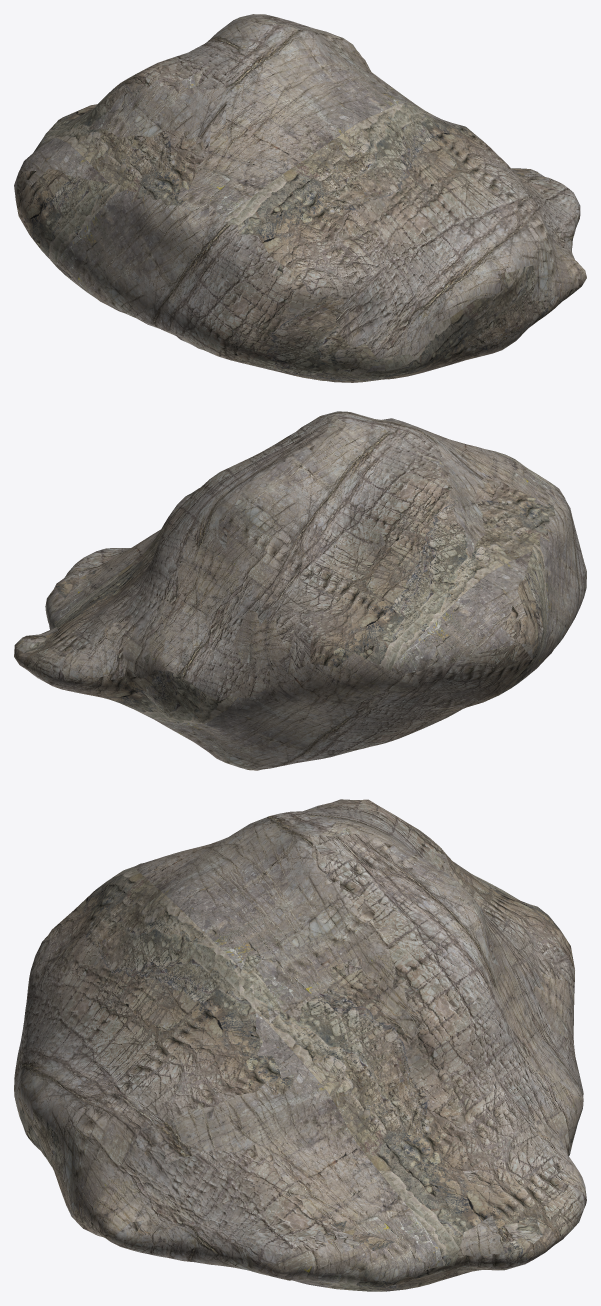
The model's file is stone_b_4.fbx.
3 views of the same model, one above another, from view 1: azimuth 30°, elevation 25°; view 2: azimuth 150°, elevation 25°; view 3: azimuth 270°, elevation 25° (orthographic). The views are drawn at different scales.
Visible parts, largest first — view 1: Sphere; view 2: Sphere; view 3: Sphere.
Part boxes in pixels (x1,y1,x2,y2): Sphere: [14, 14, 586, 382]; Sphere: [14, 411, 586, 770]; Sphere: [14, 799, 586, 1291].
Bounding box in the file's own units: 3882 × 2434 × 3215.
1 material, 1 textured.
